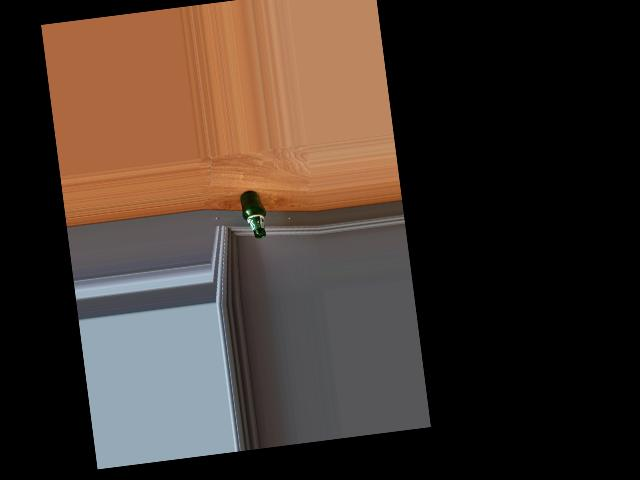beer: (239, 189, 268, 239)
